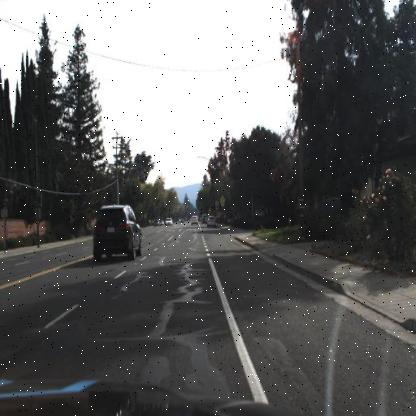car: (90, 198, 141, 264), (164, 212, 176, 231), (188, 211, 200, 228), (206, 214, 218, 228)
